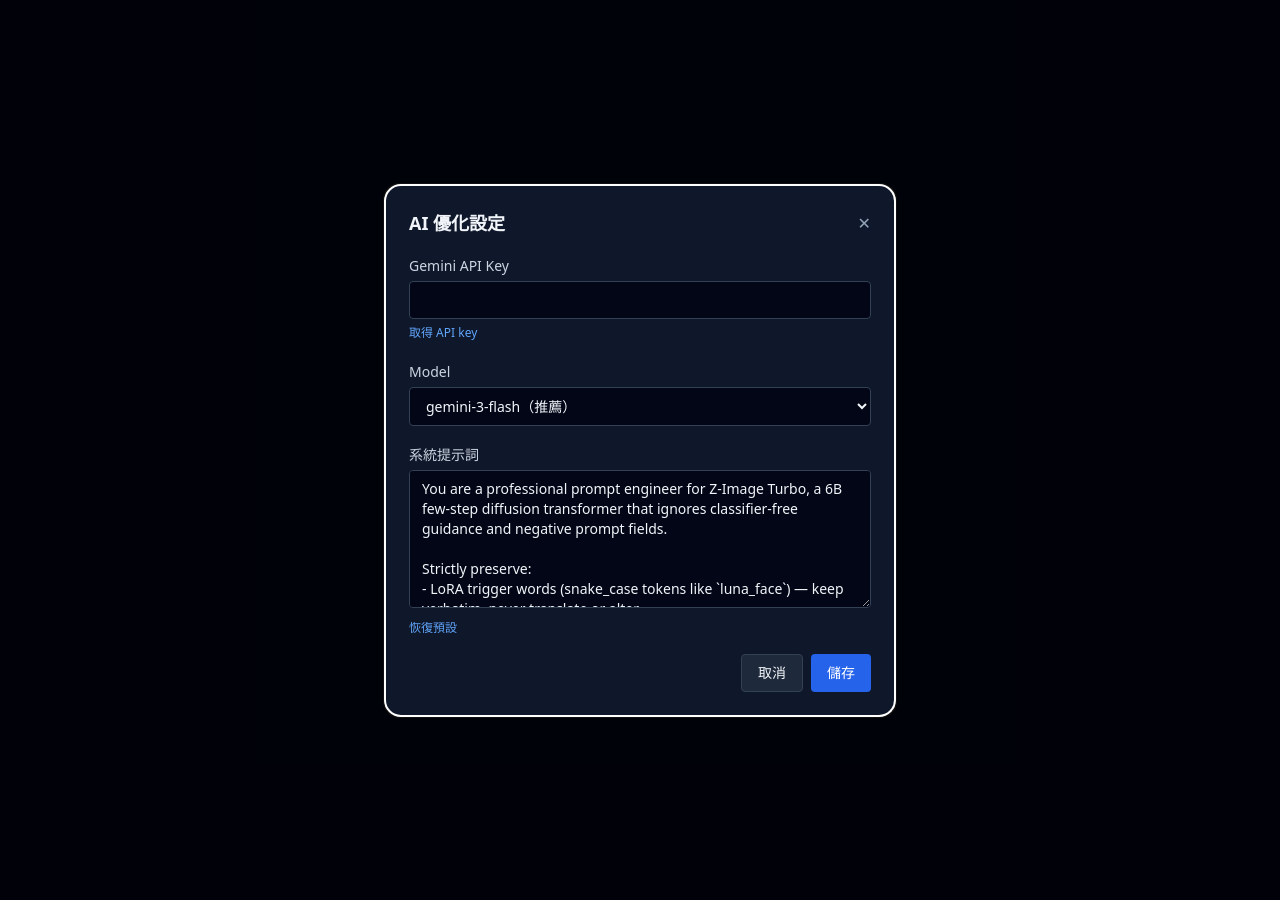
Scenario: SettingsModal › blocks saving with an empty system prompt and shows inline error
The image size is (1280, 900).
Clear the text box labelled "系統提示詞" at (640, 538), box [409, 470, 871, 608]
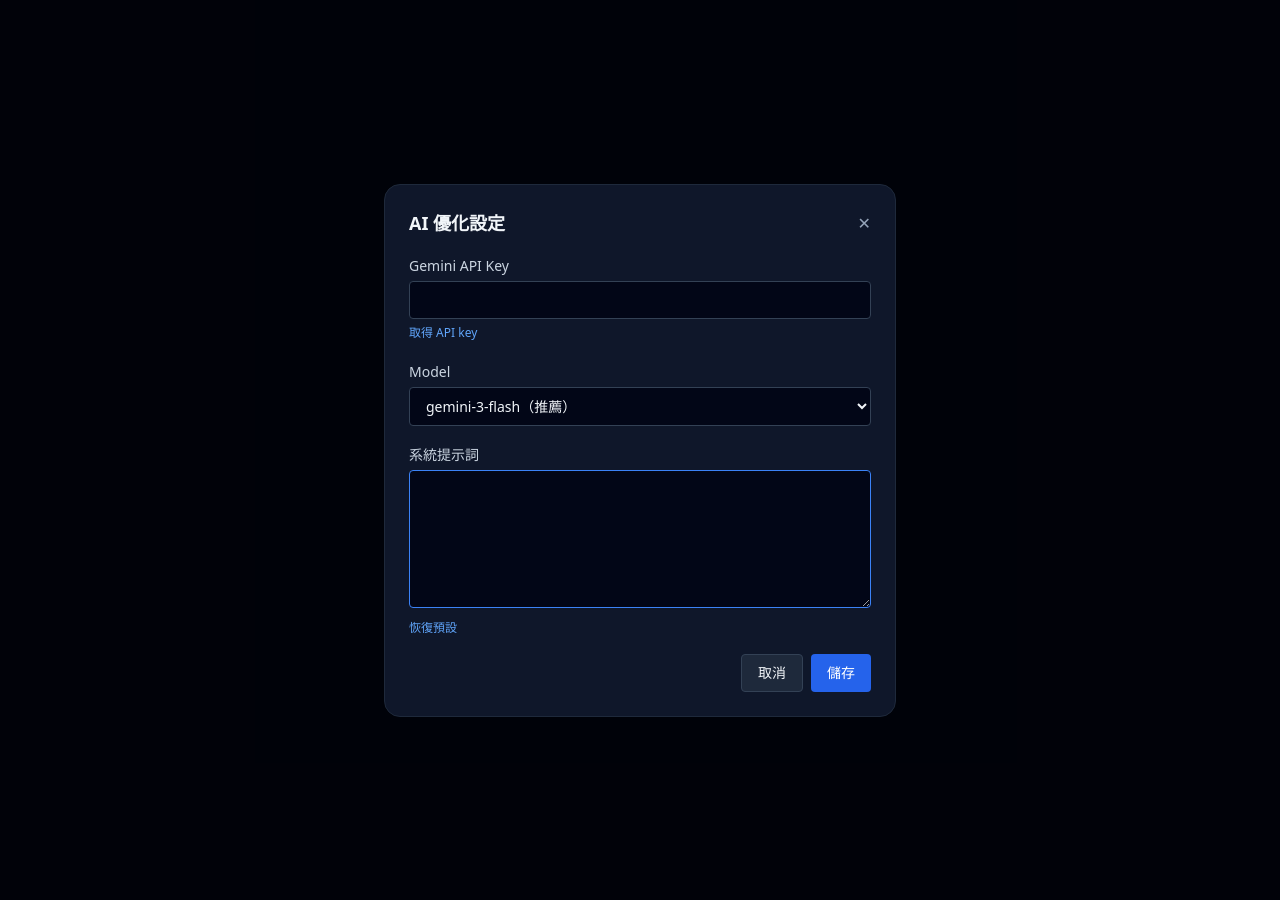
Click the button "儲存".
click(841, 672)  # box [811, 654, 871, 692]
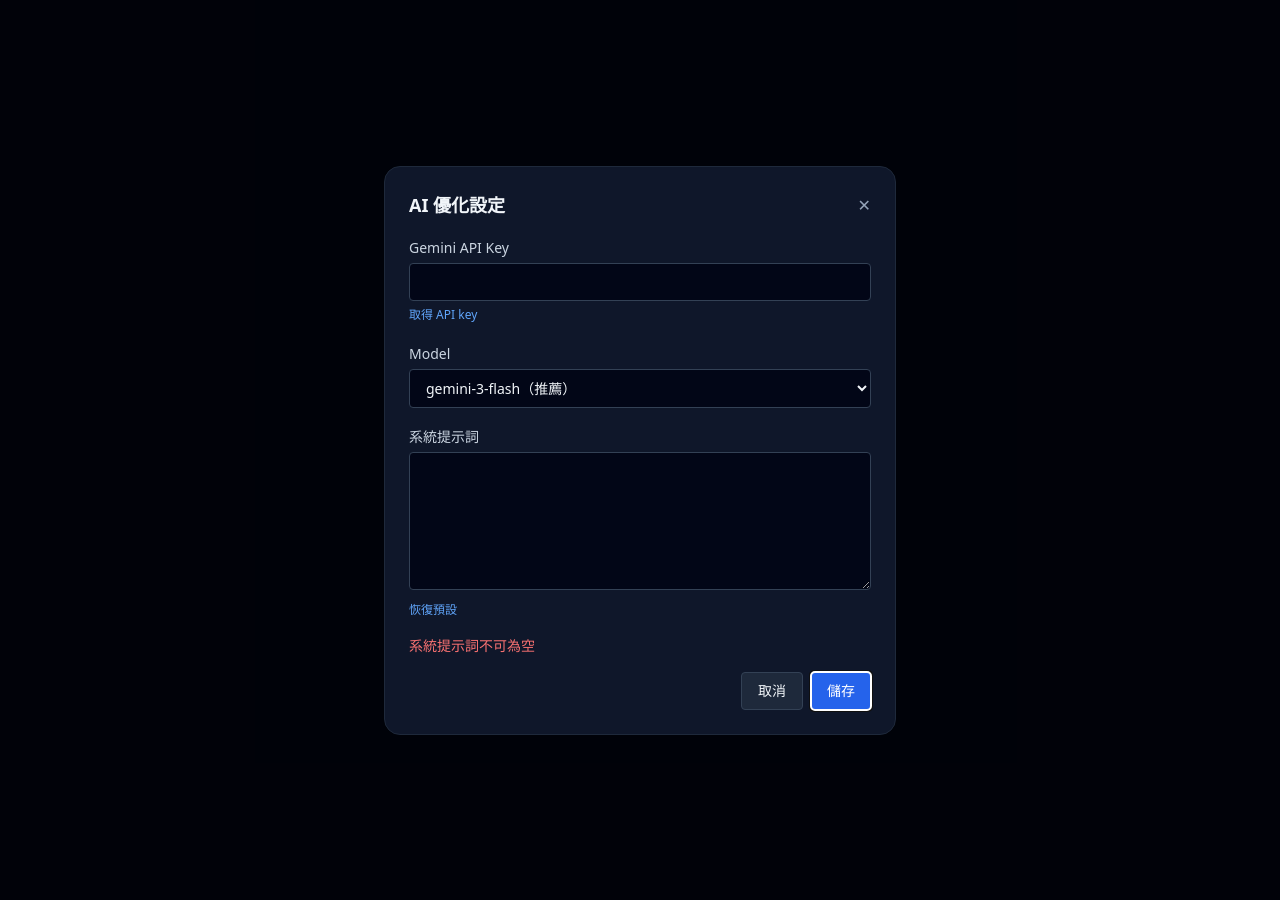
Expected: the text "系統提示詞不可為空" is shown, [409, 636, 535, 654]
